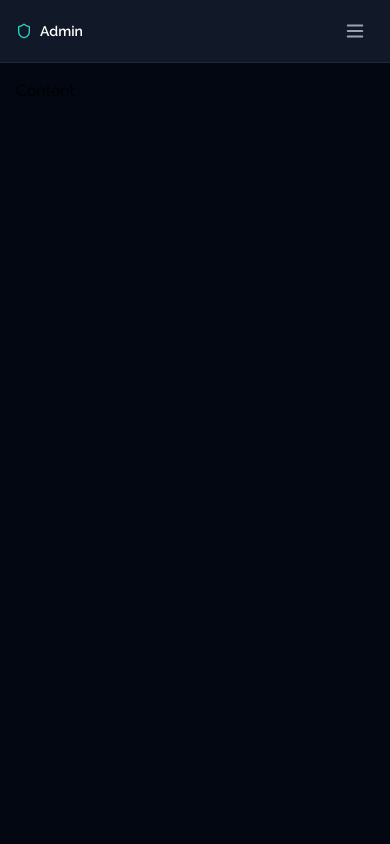
Scenario: AdminLayout › opens mobile drawer when clicking menu button
The image size is (390, 844).
Click the button named "メニューを開く".
click(355, 31)  # box left=336, top=12, right=374, bottom=50
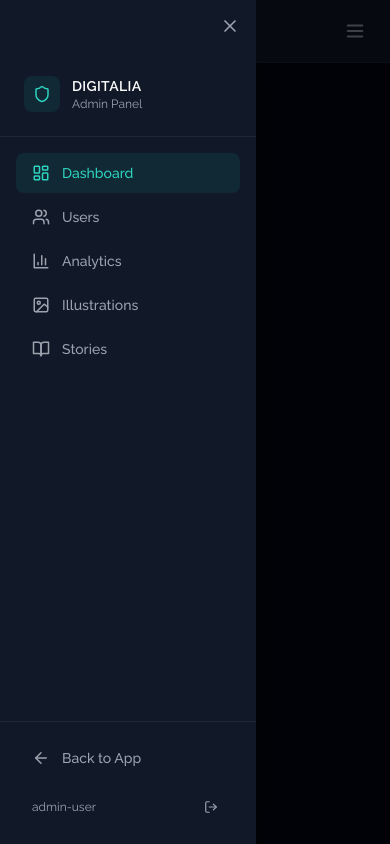
Result: the button named "メニューを閉じる" is shown at left=212, top=8, right=248, bottom=44
